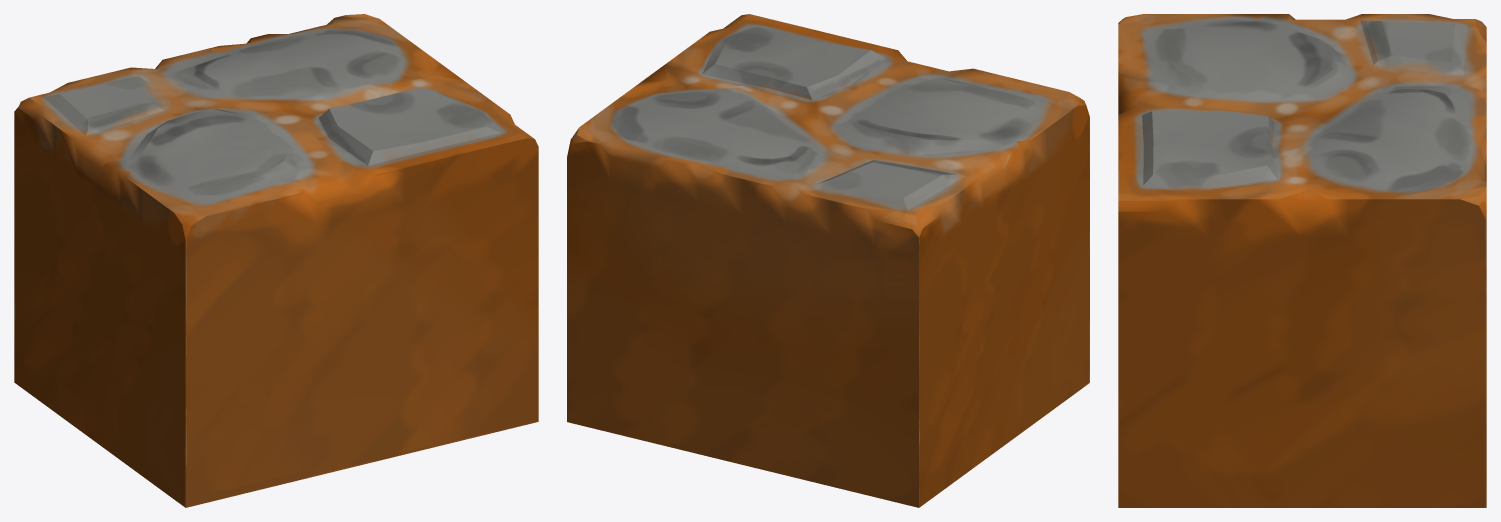
The model's file is floor_origin_nice.fbx.
3 views of the same model, side by side, from view 1: azimuth 30°, elevation 25°; view 2: azimuth 150°, elevation 25°; view 3: azimuth 270°, elevation 25° (orthographic). The views are drawn at different scales.
Parts seen in each view (by area): view 1: floor; view 2: floor; view 3: floor.
Part boxes in pixels (x1,y1,x2,y2): floor: (14, 14, 538, 507); floor: (567, 14, 1089, 507); floor: (1118, 14, 1486, 507).
Bounding box in the file's own units: 259 × 207 × 218.
1 material, 1 textured.
